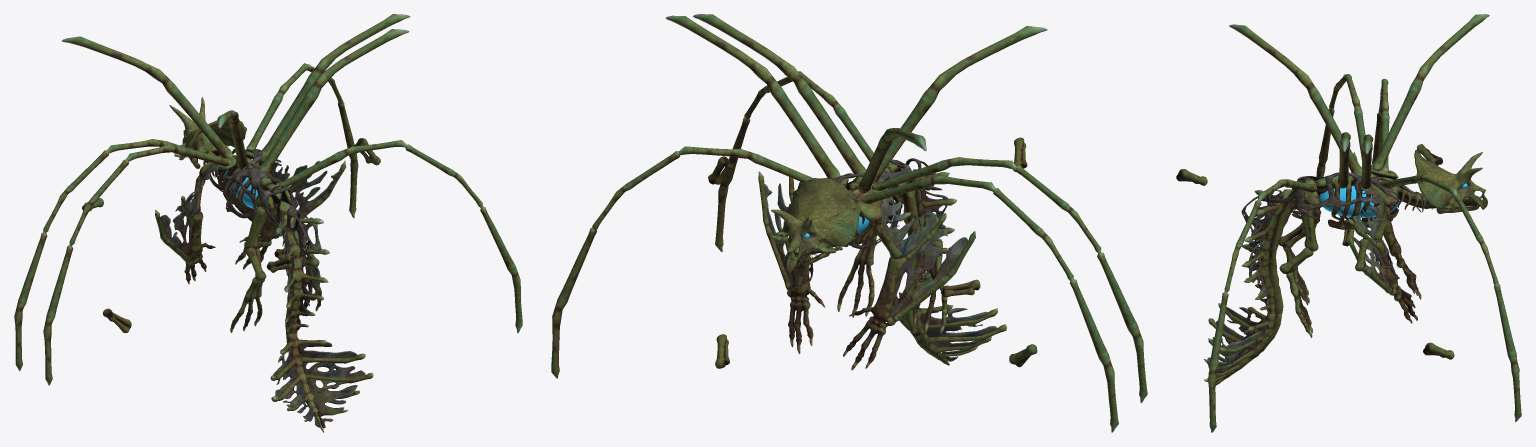
The model's file is chimera_1.glb.
3 renders of one model, left to right at view 1: azimuth 30°, elevation 25°; view 2: azimuth 150°, elevation 25°; view 3: azimuth 270°, elevation 25°, orthographic. The views are drawn at different scales.
Visible parts, largest first — view 1: body, turret03, tail01, L_arm02, tail02, R_Btopleg01, L_Ftopleg01, R_arm02, R_Ftopleg01, head, L_Bbotleg03, L_Fbotleg03 (+12 smaller); view 2: L_arm02, head, R_arm02, R_Ftopleg01, R_Btopleg01, L_Btopleg01, body, tail02, L_arm01, turret03, tail01, L_Fbotleg03 (+13 smaller); view 3: body, tail01, head, R_arm02, tail02, L_Ftopleg01, L_Btopleg01, turret03, R_arm01, R_Bbotleg03, R_Fbotleg03, L_arm02 (+15 smaller).
Boxes of the visible parts, x1=… form: body: x1=199, y1=148, x2=310, y2=253; turret03: x1=273, y1=342, x2=365, y2=428; tail01: x1=275, y1=200, x2=329, y2=334; L_arm02: x1=155, y1=195, x2=215, y2=284; tail02: x1=270, y1=331, x2=373, y2=432; R_Btopleg01: x1=260, y1=29, x2=409, y2=173; L_Ftopleg01: x1=62, y1=36, x2=233, y2=158; R_arm02: x1=235, y1=160, x2=346, y2=269; R_Ftopleg01: x1=260, y1=14, x2=410, y2=158; head: x1=169, y1=97, x2=246, y2=160; L_Bbotleg03: x1=43, y1=245, x2=73, y2=385; L_Fbotleg03: x1=14, y1=232, x2=47, y2=370; L_arm02: x1=843, y1=213, x2=975, y2=370; head: x1=771, y1=178, x2=860, y2=272; R_arm02: x1=758, y1=171, x2=825, y2=353; R_Ftopleg01: x1=665, y1=15, x2=840, y2=179; R_Btopleg01: x1=693, y1=14, x2=866, y2=177; L_Btopleg01: x1=872, y1=26, x2=1047, y2=183; body: x1=832, y1=158, x2=933, y2=249; tail02: x1=899, y1=293, x2=1006, y2=365; L_arm01: x1=874, y1=197, x2=941, y2=258; turret03: x1=896, y1=292, x2=997, y2=361; tail01: x1=897, y1=160, x2=956, y2=295; L_Fbotleg03: x1=1069, y1=279, x2=1118, y2=432; body: x1=1241, y1=166, x2=1436, y2=229; tail01: x1=1242, y1=189, x2=1295, y2=313; head: x1=1414, y1=150, x2=1487, y2=209; R_arm02: x1=1347, y1=218, x2=1417, y2=323; tail02: x1=1204, y1=303, x2=1282, y2=385; L_Ftopleg01: x1=1372, y1=14, x2=1489, y2=171; L_Btopleg01: x1=1229, y1=24, x2=1361, y2=173; turret03: x1=1207, y1=307, x2=1266, y2=382; R_arm01: x1=1352, y1=187, x2=1390, y2=240; R_Bbotleg03: x1=1208, y1=292, x2=1228, y2=432; R_Fbotleg03: x1=1494, y1=284, x2=1521, y2=421; L_arm02: x1=1353, y1=152, x2=1421, y2=299.
Size of the model in its own units: 158 by 115 by 112.
1 material, 1 textured.
